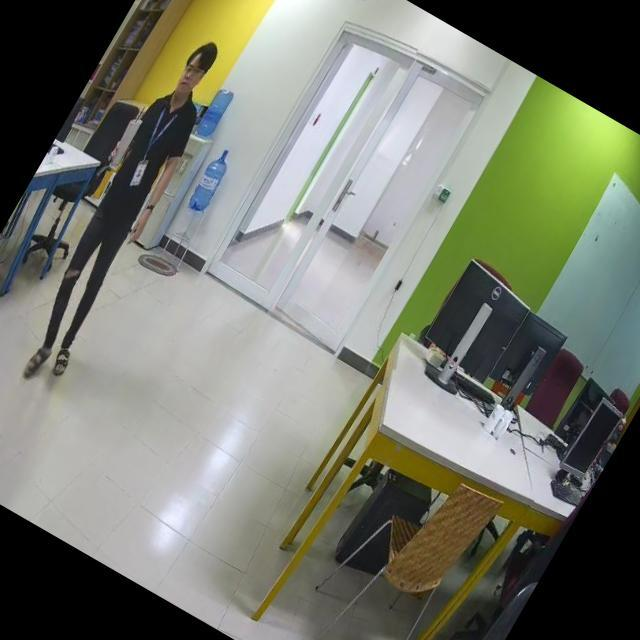person: (0, 28, 240, 386)
